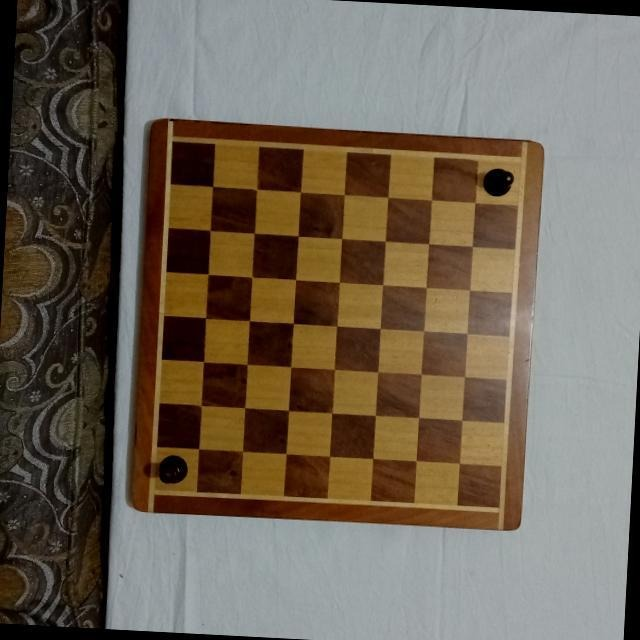black-pawn: (156, 453, 190, 487), (481, 165, 515, 197)
